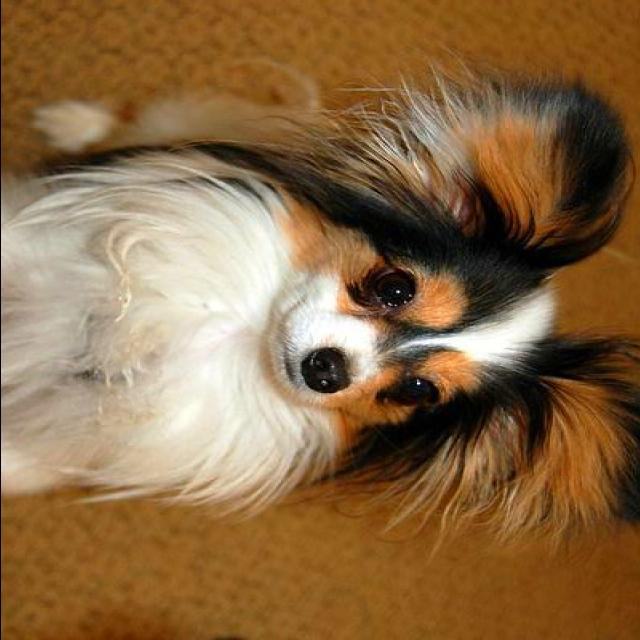papillon: (2, 71, 640, 557)
